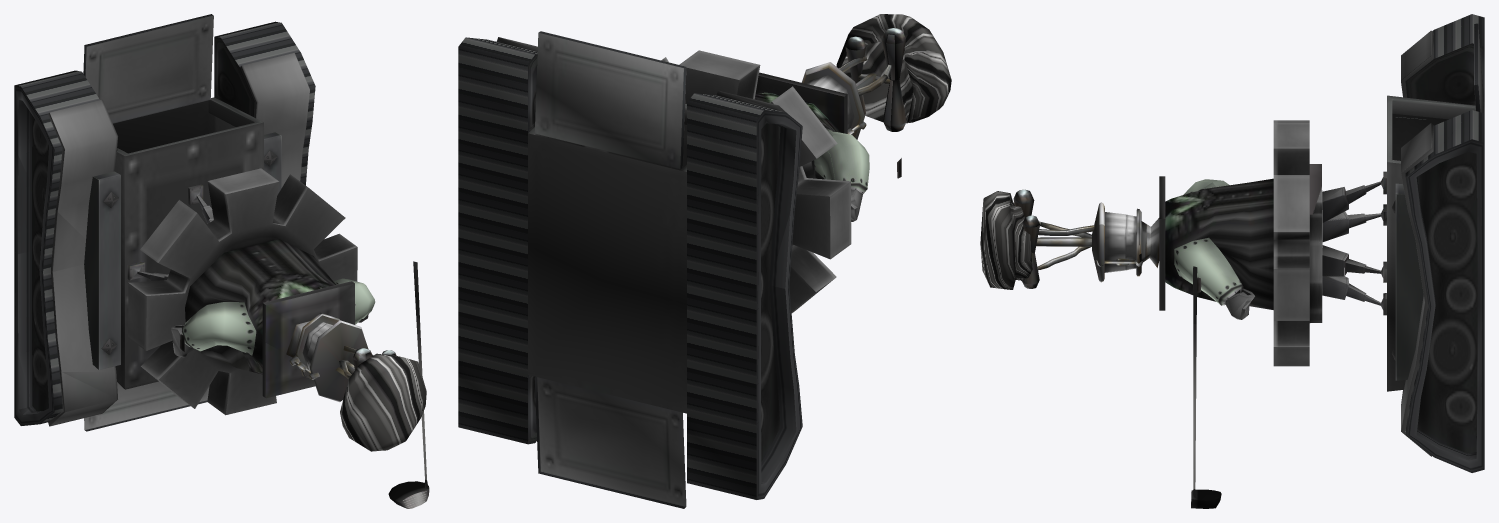
The model's file is bossbot_ceo_body.glb.
3 renders of one model, left to right at view 1: azimuth 30°, elevation 25°; view 2: azimuth 150°, elevation 25°; view 3: azimuth 270°, elevation 25°, orthographic. The views are drawn at different scales.
Visible parts, largest first — view 1: joint_axle, joint_pelvis, bossCog-torso, joint34, joint_doorRear, left_side, joint33, left_tread, right_tread, joint_doorFront, club_head, club_handle; view 2: joint_axle, left_tread, right_tread, joint_doorRear, joint_doorFront, joint34, joint_pelvis, left_side, bossCog-torso, joint33; view 3: joint_axle, bossCog-torso, joint34, joint_pelvis, right_side, bossCog-legs, right_tread, left_tread, joint33, club_handle, bossCog-head, joint_doorRear.
Boxes of the visible parts, x1,y1,x2,y2 form: joint_axle: (32,36,309,426); joint_pelvis: (128,168,357,415); bossCog-torso: (171,239,375,374); joint34: (289,313,426,451); joint_doorRear: (83,14,213,123); left_side: (14,85,54,425); joint33: (262,281,354,398); left_tread: (15,70,99,423); right_tread: (215,21,315,185); joint_doorFront: (84,381,209,431); club_head: (388,481,429,508); club_handle: (413,261,428,488); joint_axle: (497,37,786,461); left_tread: (687,93,784,499); right_tread: (458,37,537,444); joint_doorRear: (534,31,686,168); joint_doorFront: (534,377,686,508); joint34: (801,14,951,139); joint_pelvis: (661,50,851,312); left_side: (756,110,802,499); bossCog-torso: (754,92,869,221); joint33: (755,72,847,133); joint_axle: (1387,30,1484,456); bossCog-torso: (1165,178,1322,322); joint34: (980,189,1143,289); joint_pelvis: (1273,120,1309,366); right_side: (1405,139,1484,472); bossCog-legs: (1322,187,1348,299); right_tread: (1405,110,1484,433); left_tread: (1432,14,1484,58); joint33: (1159,176,1165,310); club_handle: (1192,266,1197,497); bossCog-head: (1141,218,1159,267); joint_doorRear: (1474,23,1484,113).
Bounding box in the file's own units: 17.15 × 24.42 × 28.27.
Materials: 20 (18 with a texture image).
